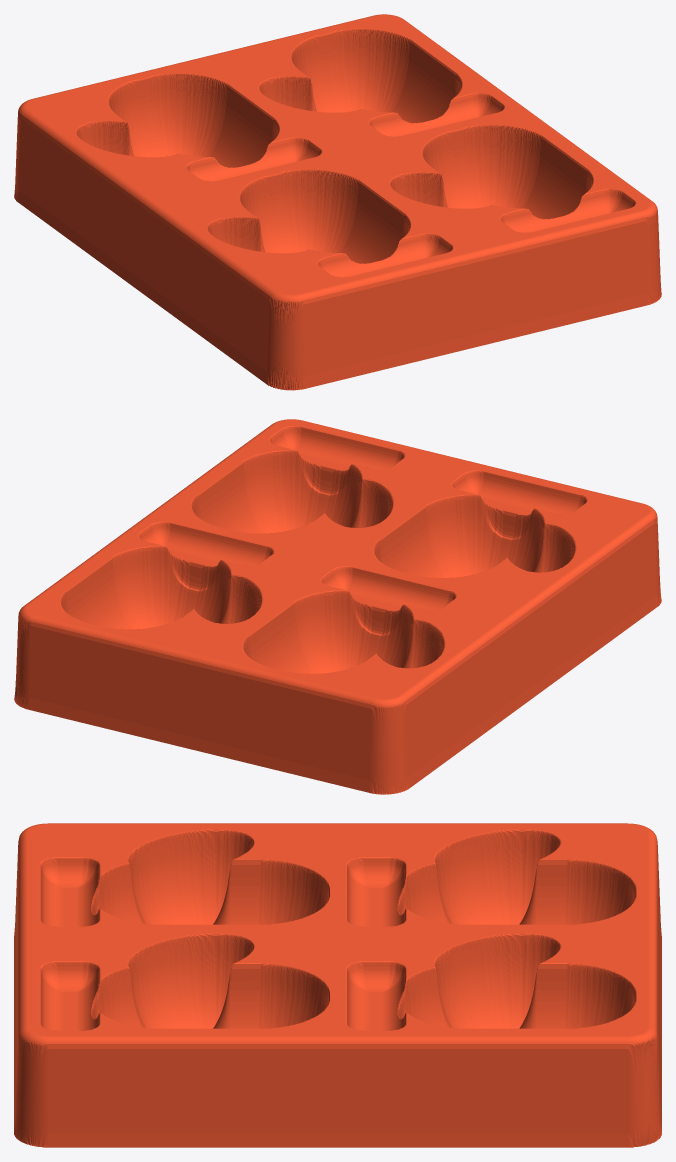
The model's file is mold.glb.
3 renders of one model, top to bottom at view 1: azimuth 30°, elevation 25°; view 2: azimuth 150°, elevation 25°; view 3: azimuth 270°, elevation 25°, orthographic. The views are drawn at different scales.
Parts seen in each view (by area): view 1: geometry_0; view 2: geometry_0; view 3: geometry_0.
Boxes of the visible parts, x1,y1,x2,y2 form: geometry_0: (14, 14, 661, 390); geometry_0: (14, 419, 661, 794); geometry_0: (14, 823, 661, 1147).
Size of the model in its own units: 0.1403 by 0.031 by 0.1721.
